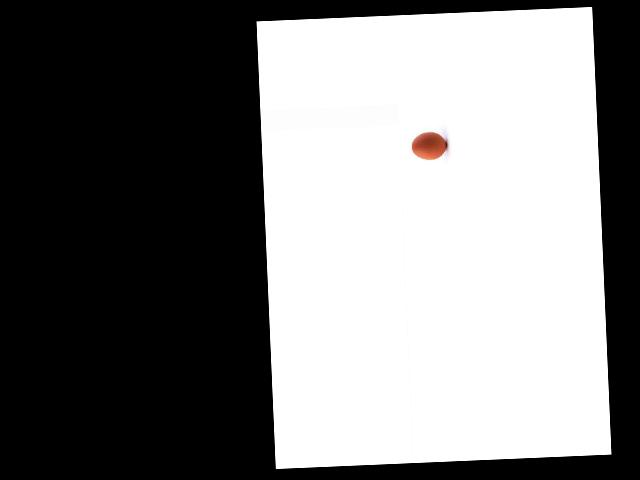egg: (411, 130, 446, 159)
